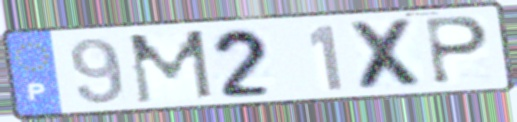1: (307, 23, 344, 93)
2: (210, 24, 282, 104)
9: (67, 36, 128, 106)
M: (125, 27, 217, 107)
P: (423, 14, 492, 86)
X: (345, 16, 431, 92)
